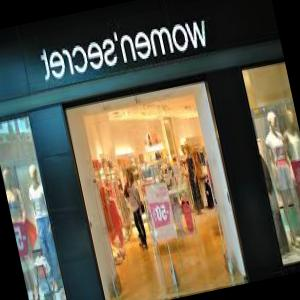women_secret: (35, 13, 212, 85)
